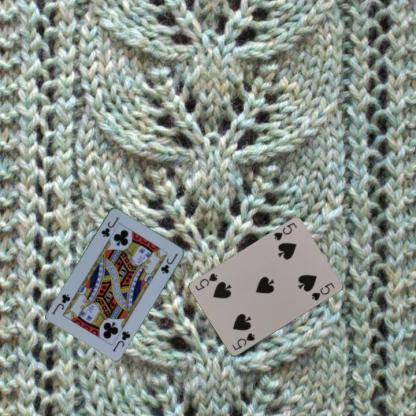5s: (229, 330, 256, 352), (271, 220, 298, 242)
Jc: (110, 328, 132, 353), (98, 214, 120, 238)
